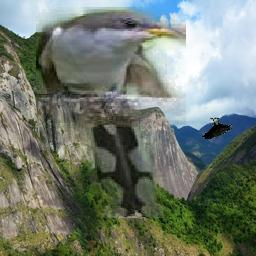Crow: (202, 117, 233, 139)
Cuckoo: (36, 8, 186, 219)
